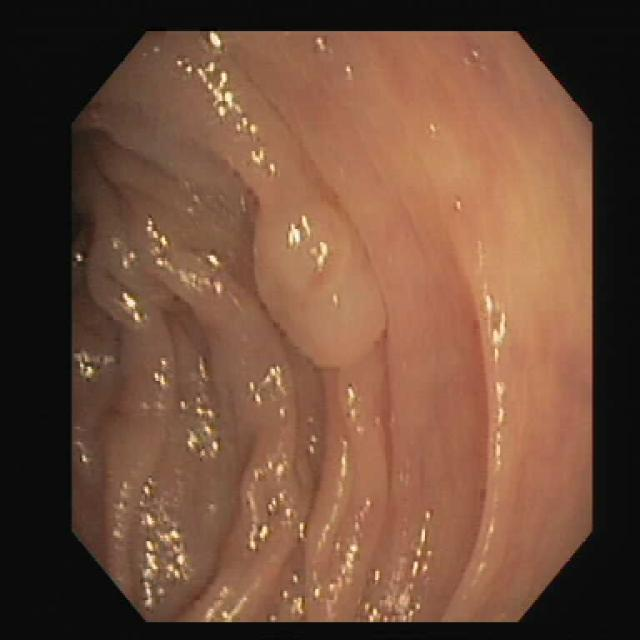tumor: (240, 156, 385, 369)
